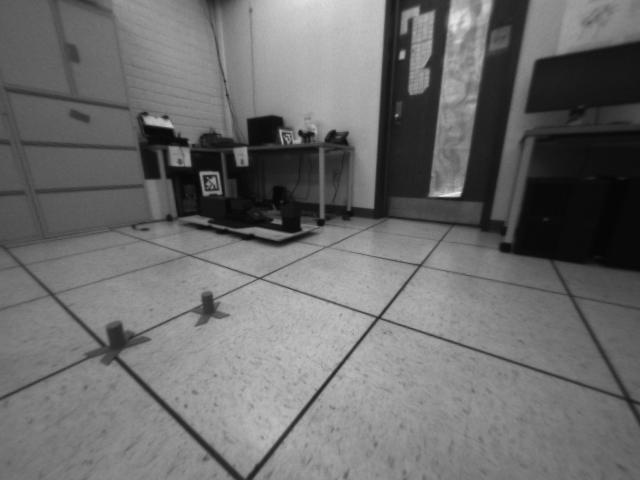X: (84, 319, 153, 366), (190, 289, 232, 328)
